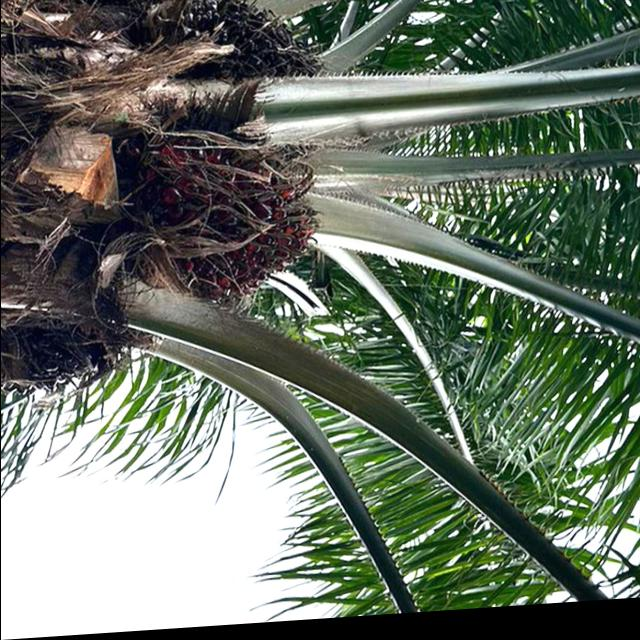ripe: (141, 136, 331, 324)
